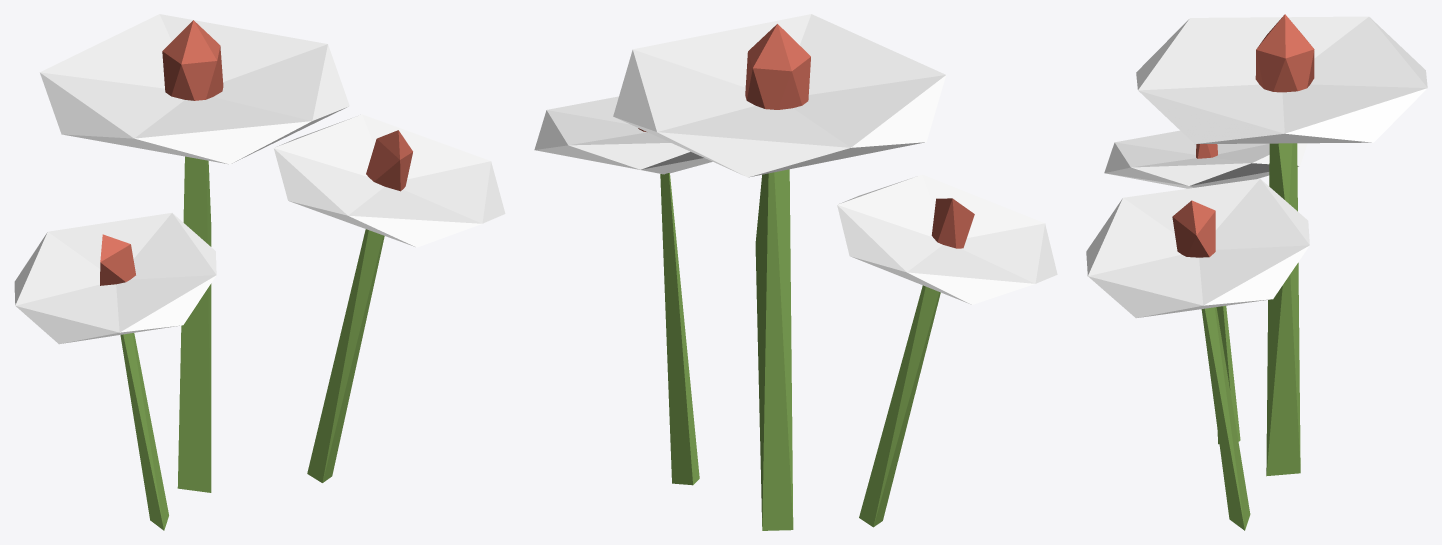
Rendered from Flower_01.fbx.
3 views of the same model, side by side, from view 1: azimuth 30°, elevation 25°; view 2: azimuth 150°, elevation 25°; view 3: azimuth 270°, elevation 25° (orthographic). The views are drawn at different scales.
Visible parts, largest first — view 1: Flower_01; view 2: Flower_01; view 3: Flower_01.
Part boxes in pixels (left/top/right/bottom): Flower_01: left=14, top=14, right=505, bottom=530; Flower_01: left=534, top=14, right=1057, bottom=530; Flower_01: left=1086, top=14, right=1427, bottom=530.
Size of the model in its own units: 0.1834 by 0.1775 by 0.1192.
